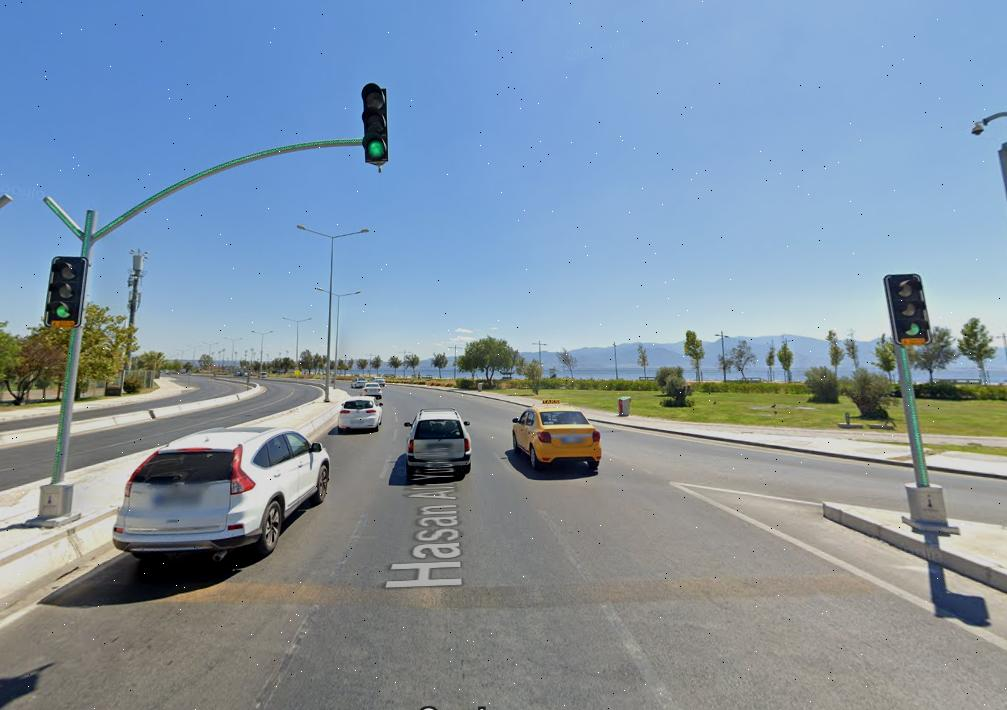greenlight: (890, 270, 927, 345), (46, 254, 83, 326), (363, 83, 393, 164)
